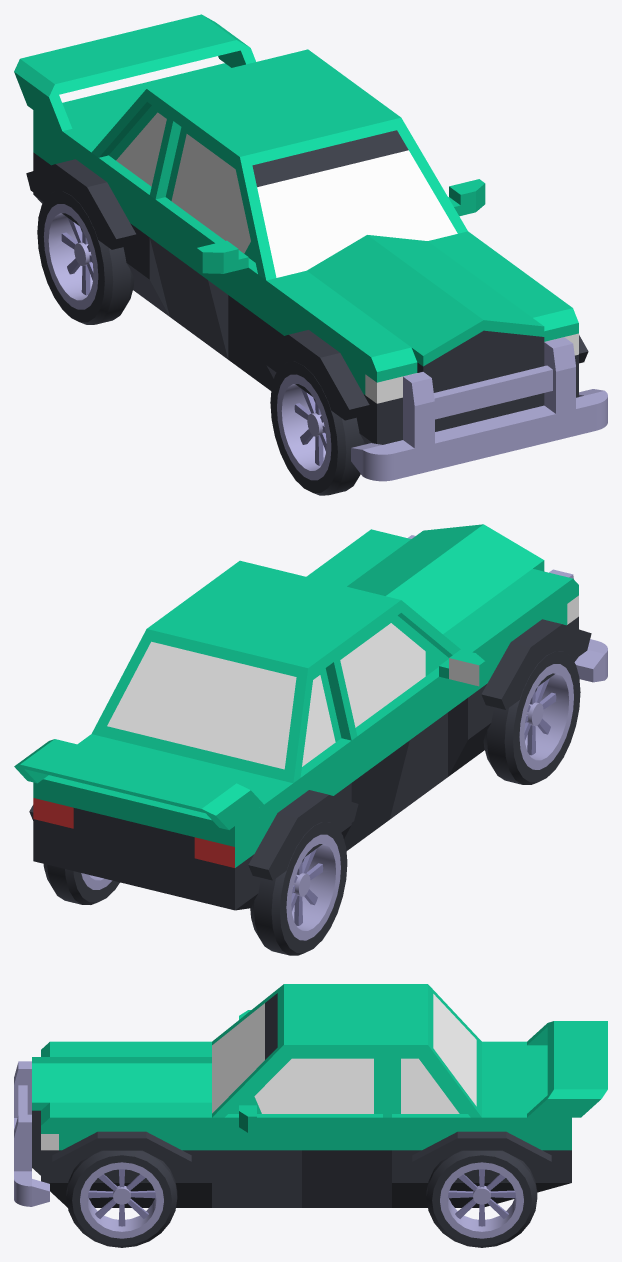
Rendered from luxgreen.fbx.
3 views of the same model, one above another, from view 1: azimuth 30°, elevation 25°; view 2: azimuth 150°, elevation 25°; view 3: azimuth 270°, elevation 25° (orthographic). The views are drawn at different scales.
Parts seen in each view (by area): view 1: body_topStandard, body_frontLuxury, wheel_cycleSpokesDetailed (×2), bumper_large, body_sports, spoiler_small, body_backSolid, wheel_coverSquare (×2), body_topBackStandard, detail_mirror (×2); view 2: body_topBackStandard, body_backSolid, body_frontLuxury, body_topStandard, wheel_cycleSpokesDetailed (×3), body_sports, spoiler_small, wheel_coverSquare (×2), detail_mirror, bumper_large; view 3: body_frontLuxury, body_topStandard, body_sports, wheel_cycleSpokesDetailed (×2), body_backSolid, body_topBackStandard, spoiler_small, wheel_coverSquare (×2), bumper_large, detail_mirror.
Part boxes in pixels (<box>): body_topStandard: <box>150,66,467,280</box>; body_frontLuxury: <box>266,231,578,444</box>; wheel_cycleSpokesDetailed (×2): <box>37,191,364,495</box>; bumper_large: <box>351,337,607,481</box>; body_sports: <box>149,195,273,390</box>; spoiler_small: <box>14,14,255,130</box>; body_backSolid: <box>33,63,230,316</box>; wheel_coverSquare (×2): <box>26,159,369,420</box>; body_topBackStandard: <box>91,49,330,186</box>; detail_mirror (×2): <box>196,179,485,273</box>; body_topBackStandard: <box>91,612,341,783</box>; body_backSolid: <box>33,734,351,910</box>; body_frontLuxury: <box>306,524,578,776</box>; body_topStandard: <box>170,560,460,740</box>; wheel_cycleSpokesDetailed (×3): <box>43,651,580,955</box>; body_sports: <box>344,667,467,850</box>; spoiler_small: <box>14,739,263,829</box>; wheel_coverSquare (×2): <box>248,619,591,880</box>; detail_mirror: <box>439,649,485,686</box>; bumper_large: <box>407,535,607,682</box>; body_frontLuxury: <box>32,1041,211,1207</box>; body_topStandard: <box>212,984,391,1117</box>; body_sports: <box>212,1114,391,1207</box>; wheel_cycleSpokesDetailed (×2): <box>66,1150,537,1247</box>; body_backSolid: <box>392,1041,571,1207</box>; body_topBackStandard: <box>392,984,481,1117</box>; spoiler_small: <box>527,1021,607,1117</box>; wheel_coverSquare (×2): <box>52,1131,551,1172</box>; bumper_large: <box>14,1061,49,1206</box>; detail_mirror: <box>239,1105,256,1132</box>.
Size of the model in its own units: 14 by 11.78 by 33.
